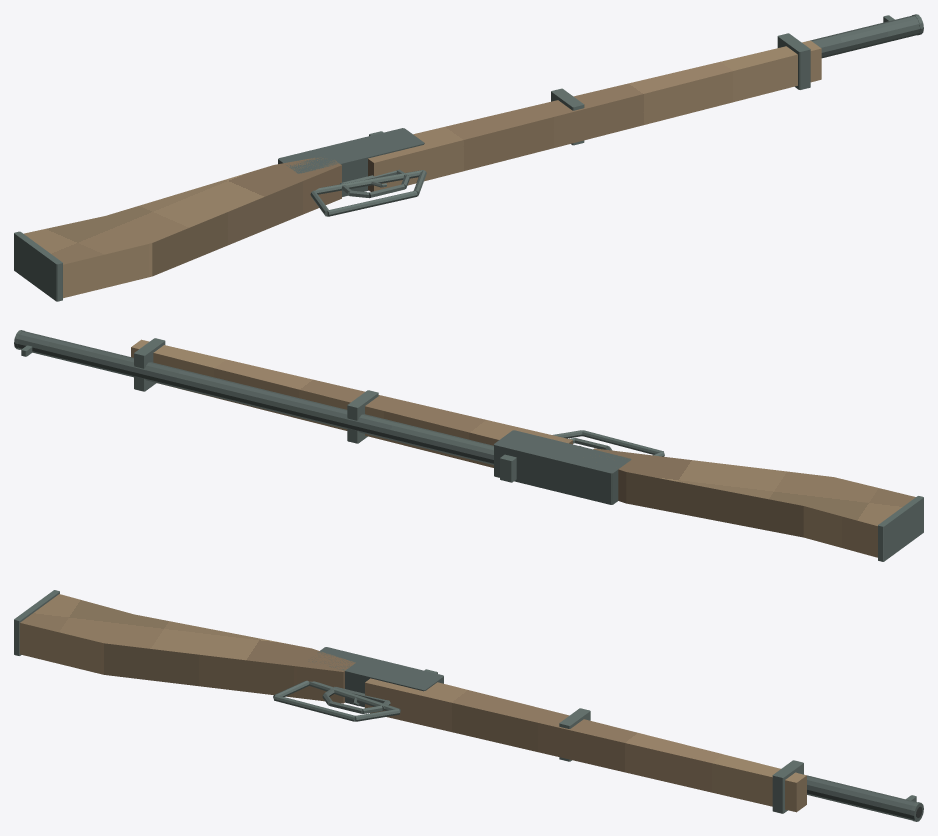
File: weapon-martini-henry.glb
3 views of the same model, one above another, from view 1: azimuth 30°, elevation 25°; view 2: azimuth 150°, elevation 25°; view 3: azimuth 330°, elevation 25° (orthographic). The views are drawn at different scales.
Parts seen in each view (by area): view 1: weapon-martini-henry/tapered-full-depth-forend, weapon-martini-henry/shaped-solid-butt, weapon-martini-henry/central-receiver, weapon-martini-henry/long-barrel, weapon-martini-henry/butt-end-plate, weapon-martini-henry/stock-band-1, weapon-martini-henry/open-lever-loop-4, weapon-martini-henry/open-lever-loop-2; view 2: weapon-martini-henry/shaped-solid-butt, weapon-martini-henry/long-barrel, weapon-martini-henry/tapered-full-depth-forend, weapon-martini-henry/central-receiver, weapon-martini-henry/butt-end-plate, weapon-martini-henry/stock-band-1, weapon-martini-henry/stock-band-0, weapon-martini-henry/open-lever-loop-2; view 3: weapon-martini-henry/shaped-solid-butt, weapon-martini-henry/tapered-full-depth-forend, weapon-martini-henry/central-receiver, weapon-martini-henry/long-barrel, weapon-martini-henry/stock-band-1, weapon-martini-henry/open-lever-loop-2, weapon-martini-henry/butt-end-plate, weapon-martini-henry/open-lever-loop-4.
Part boxes in pixels (x1=…): weapon-martini-henry/tapered-full-depth-forend: x1=368, y1=40, x2=821, y2=191; weapon-martini-henry/shaped-solid-butt: x1=24, y1=157, x2=341, y2=298; weapon-martini-henry/central-receiver: x1=278, y1=128, x2=424, y2=196; weapon-martini-henry/long-barrel: x1=810, y1=15, x2=919, y2=58; weapon-martini-henry/butt-end-plate: x1=14, y1=231, x2=62, y2=301; weapon-martini-henry/stock-band-1: x1=777, y1=33, x2=810, y2=89; weapon-martini-henry/open-lever-loop-4: x1=315, y1=170, x2=422, y2=194; weapon-martini-henry/open-lever-loop-2: x1=327, y1=190, x2=417, y2=216; weapon-martini-henry/shaped-solid-butt: x1=593, y1=448, x2=915, y2=557; weapon-martini-henry/long-barrel: x1=17, y1=331, x2=493, y2=464; weapon-martini-henry/tapered-full-depth-forend: x1=131, y1=339, x2=572, y2=467; weapon-martini-henry/central-receiver: x1=494, y1=430, x2=631, y2=504; weapon-martini-henry/butt-end-plate: x1=878, y1=496, x2=923, y2=561; weapon-martini-henry/stock-band-1: x1=134, y1=338, x2=165, y2=391; weapon-martini-henry/stock-band-0: x1=347, y1=390, x2=378, y2=443; weapon-martini-henry/open-lever-loop-2: x1=582, y1=430, x2=663, y2=454; weapon-martini-henry/shaped-solid-butt: x1=19, y1=594, x2=355, y2=703; weapon-martini-henry/tapered-full-depth-forend: x1=365, y1=678, x2=806, y2=812; weapon-martini-henry/central-receiver: x1=308, y1=647, x2=443, y2=707; weapon-martini-henry/long-barrel: x1=807, y1=775, x2=916, y2=820; weapon-martini-henry/stock-band-1: x1=772, y1=760, x2=803, y2=813; weapon-martini-henry/open-lever-loop-2: x1=273, y1=695, x2=355, y2=721; weapon-martini-henry/butt-end-plate: x1=14, y1=590, x2=59, y2=655; weapon-martini-henry/open-lever-loop-4: x1=309, y1=681, x2=400, y2=712.
Bounding box in the file's own units: 1.25 × 0.05 × 0.1515.
Materials: 3 (3 with a texture image).
